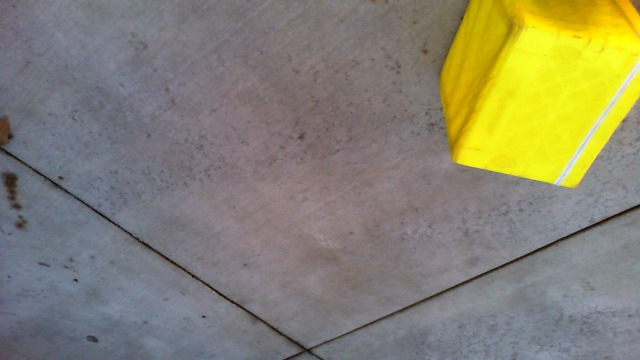cube: (436, 1, 639, 191)
